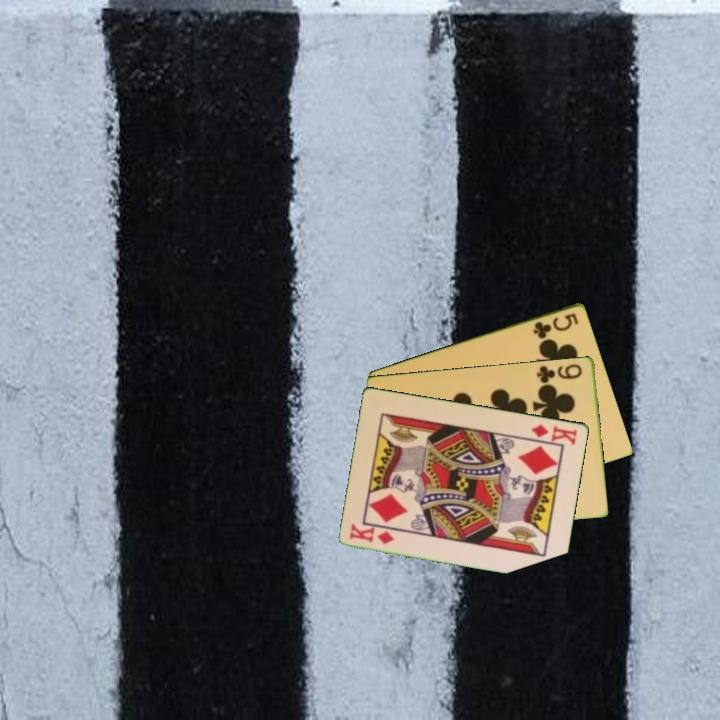5c: (530, 309, 581, 341)
9c: (533, 360, 585, 386)
Kd: (528, 420, 580, 447), (346, 521, 398, 547)
